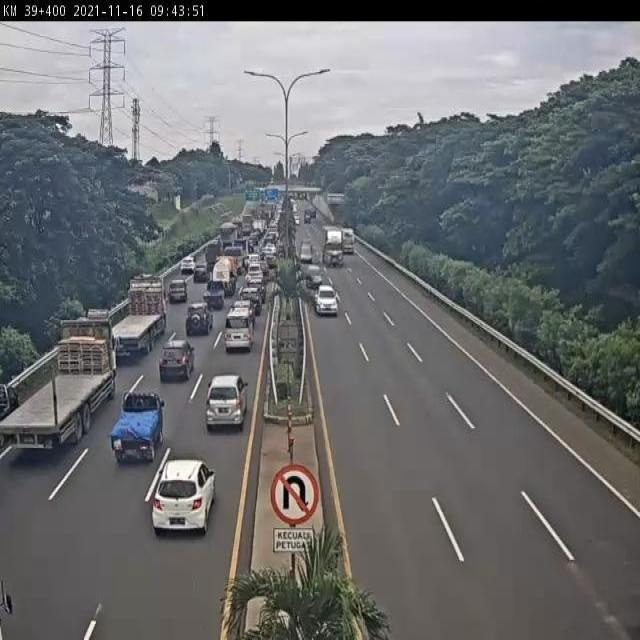Car: (150, 458, 216, 535), (204, 373, 248, 430), (159, 337, 196, 381), (223, 307, 256, 353), (184, 302, 214, 336), (314, 284, 338, 316), (240, 286, 262, 314), (168, 277, 188, 303), (261, 244, 277, 266), (247, 262, 262, 282), (180, 256, 195, 275), (194, 262, 208, 282), (300, 241, 312, 264), (266, 229, 278, 249), (304, 209, 314, 223), (294, 216, 300, 226)
Truck: (0, 312, 115, 452), (212, 257, 236, 298), (322, 228, 344, 265), (242, 214, 254, 234), (249, 231, 262, 249), (259, 204, 270, 223)
